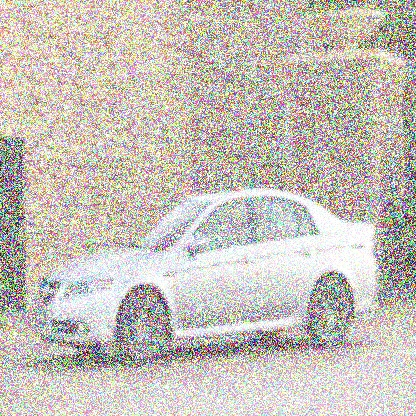Vehicle: (32, 186, 382, 369)
